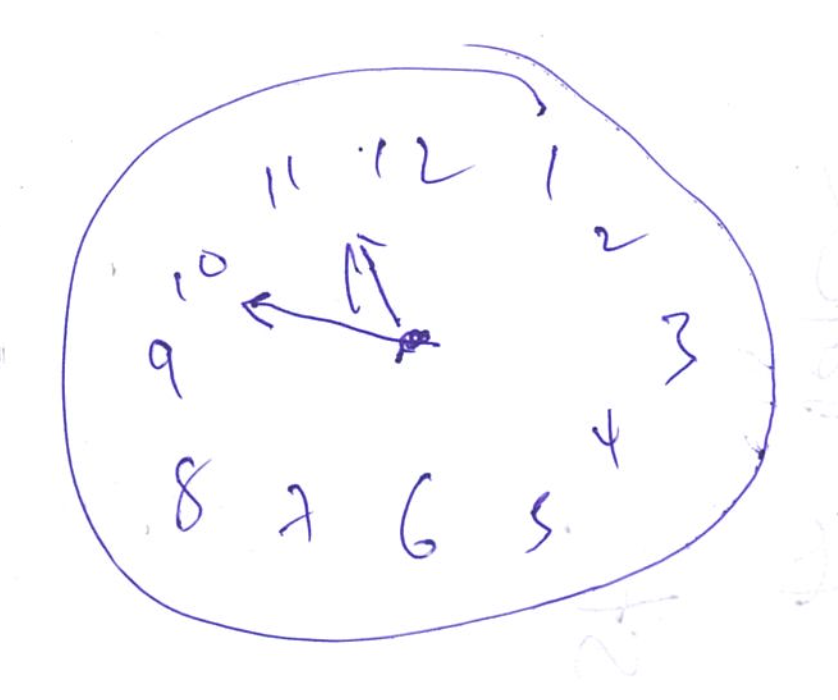1: (533, 143, 565, 206)
10: (166, 248, 232, 301)
11: (263, 151, 306, 210)
12: (367, 136, 474, 189)
2: (591, 224, 654, 256)
3: (658, 312, 707, 388)
4: (588, 405, 631, 471)
5: (521, 492, 559, 560)
6: (395, 473, 448, 565)
7: (276, 481, 319, 551)
8: (171, 454, 209, 537)
9: (141, 337, 187, 406)
contour: (55, 55, 782, 648)
hand: (245, 235, 437, 358)
top_left_arrow: (240, 291, 408, 349), (341, 231, 404, 332)
